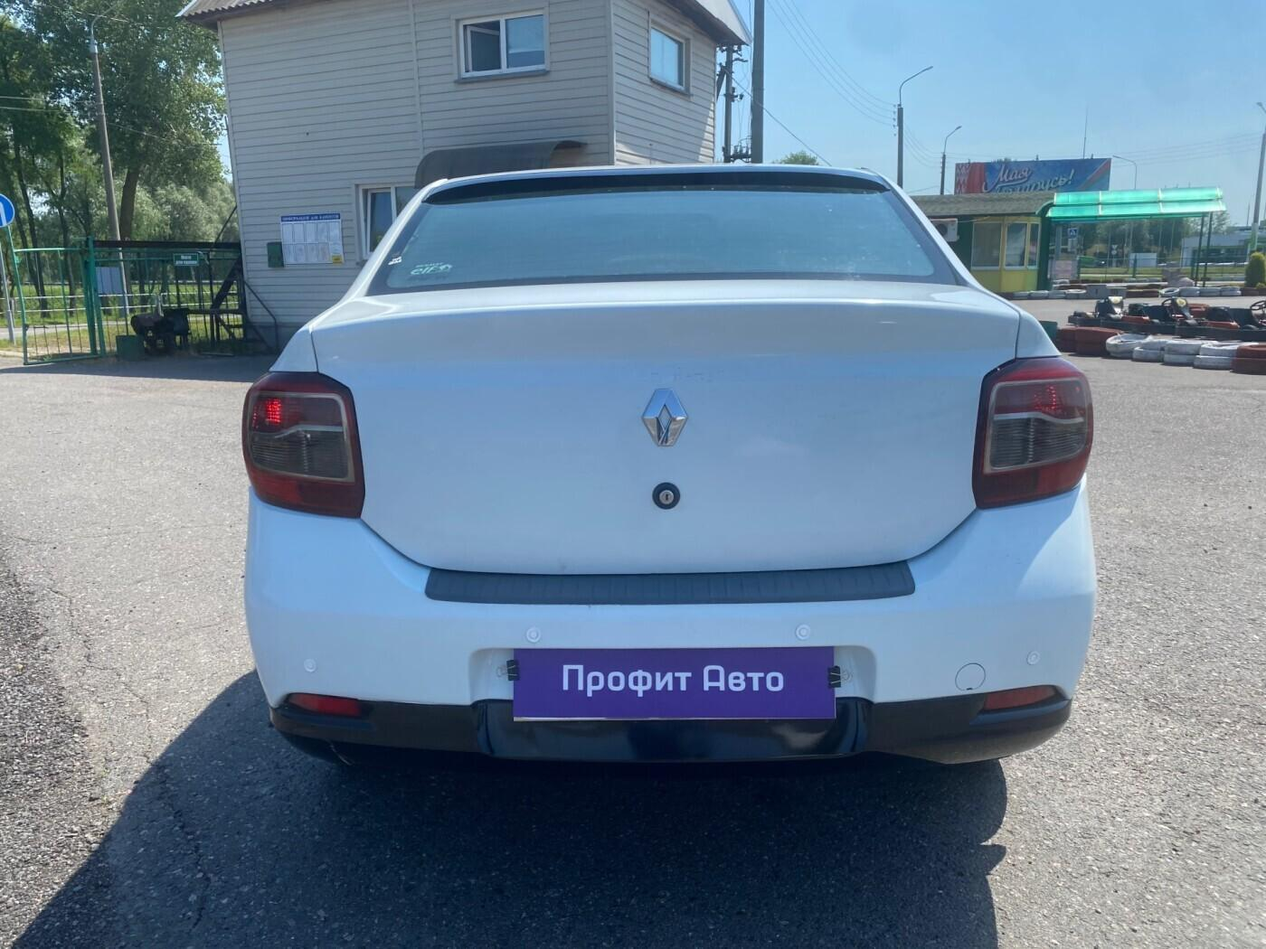Logan_2018: (230, 154, 1129, 793)
